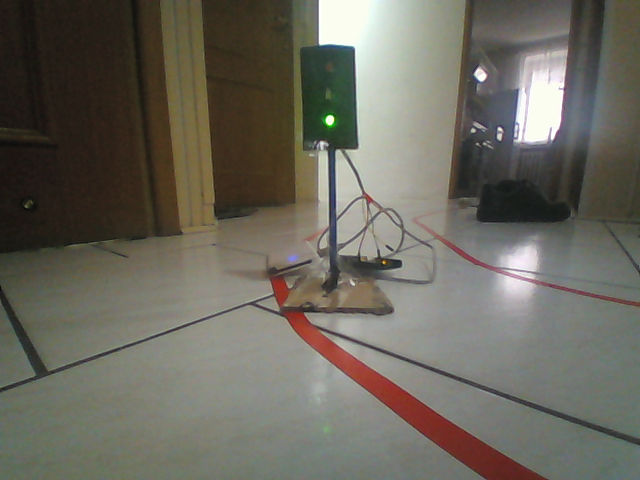green_sign: (294, 40, 365, 152)
